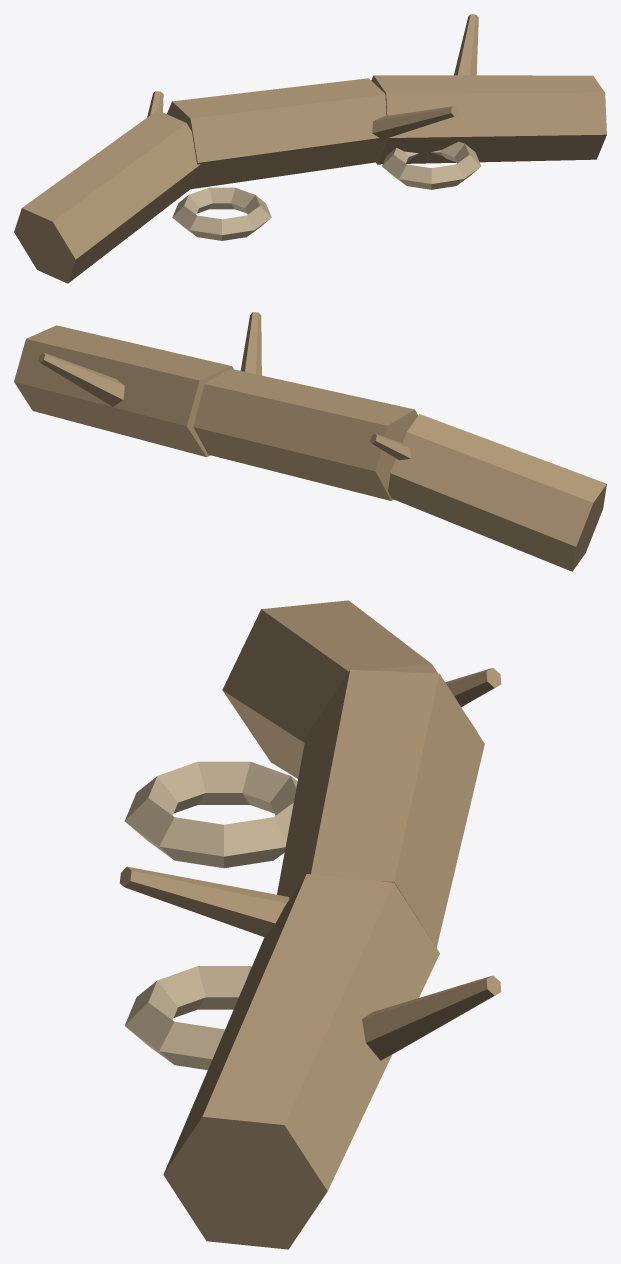
The model's file is map-exclusive-v3__shore_13.glb.
3 views of the same model, one above another, from view 1: azimuth 30°, elevation 25°; view 2: azimuth 150°, elevation 25°; view 3: azimuth 270°, elevation 25° (orthographic). The views are drawn at different scales.
Visible parts, largest first — view 1: shore_13; view 2: shore_13; view 3: shore_13.
Part boxes in pixels (x1=…): shore_13: x1=14, y1=14, x2=606, y2=283; shore_13: x1=14, y1=312, x2=606, y2=571; shore_13: x1=119, y1=600, x2=501, y2=1249.
Bounding box in the file's own units: 3 × 0.6048 × 0.891.
